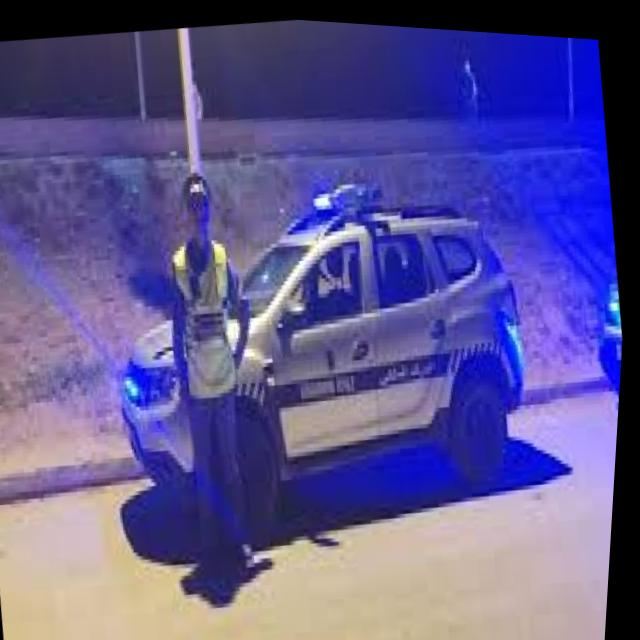gendarme car: (81, 134, 561, 556)
